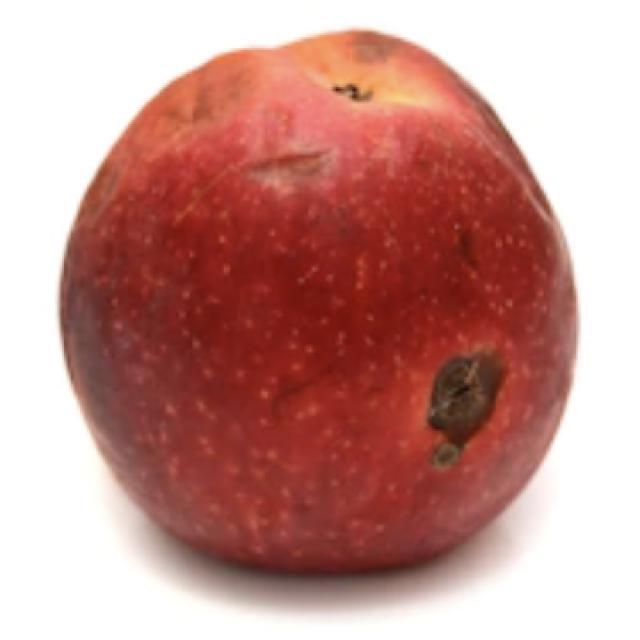Rotten: (65, 36, 573, 592)
